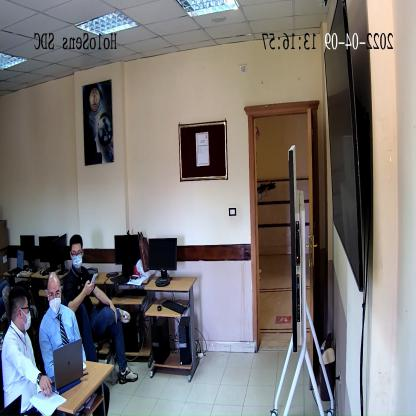handgun: (255, 180, 277, 196)
